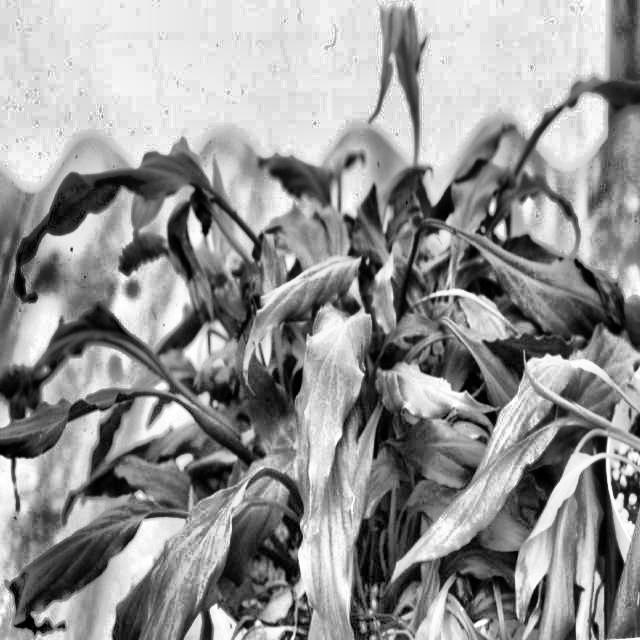plants: (8, 131, 606, 639)
